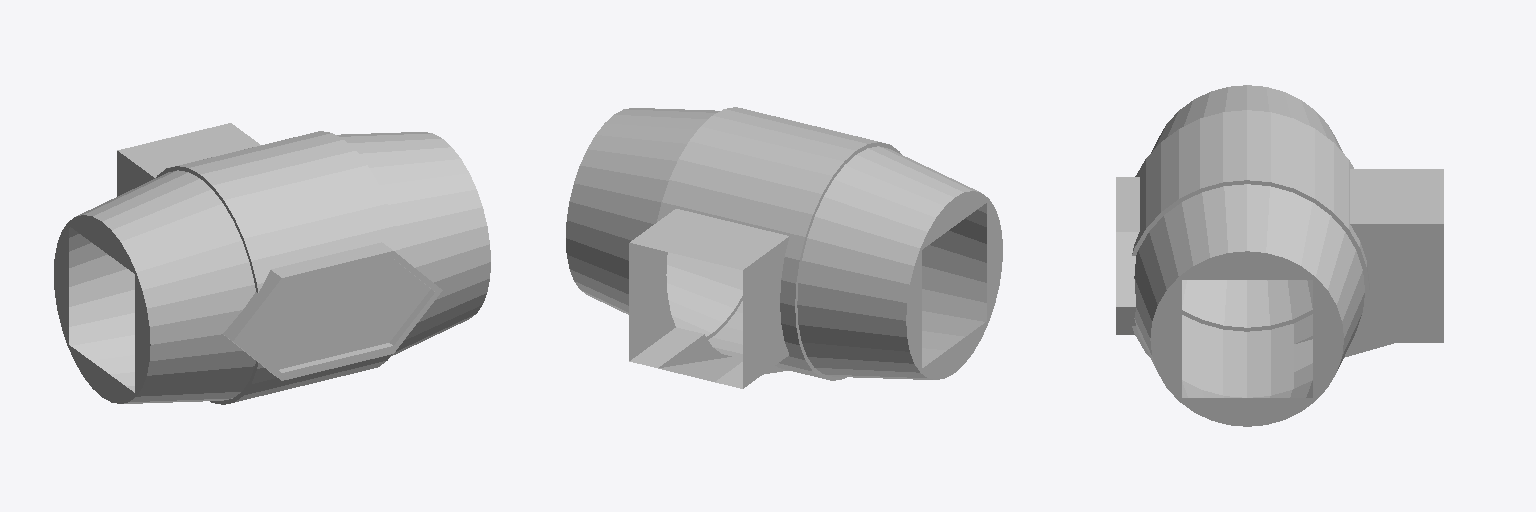
File: Bridge1.obj
3 views of the same model, side by side, from view 1: azimuth 30°, elevation 25°; view 2: azimuth 150°, elevation 25°; view 3: azimuth 270°, elevation 25° (orthographic).
Parts seen in each view (by area): view 1: Bridge_Cube.001; view 2: Bridge_Cube.001; view 3: Bridge_Cube.001.
Boxes of the visible parts, x1=… form: Bridge_Cube.001: x1=54, y1=123, x2=490, y2=404; Bridge_Cube.001: x1=566, y1=107, x2=1002, y2=388; Bridge_Cube.001: x1=1116, y1=85, x2=1443, y2=426.
Bounding box in the file's own units: 9 × 5.6 × 7.5.